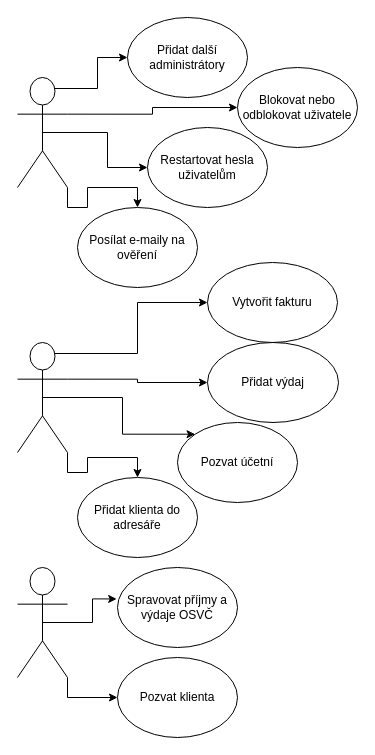
Image size: 375x755. Some labels were removed from this diagram. The centre of each missing label's shape, as x and y in pixels:
"Admin" goes at [42,132].
"OSVČ" goes at [42,397].
"Účetní" goes at [42,622].
